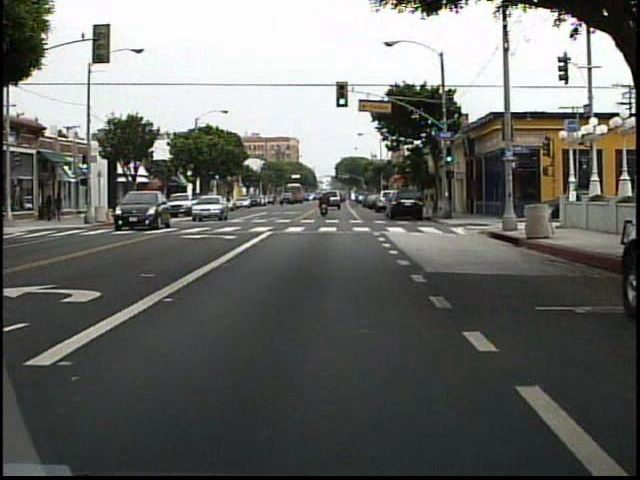person: (44, 193, 57, 223), (318, 189, 331, 218), (56, 190, 67, 221)
